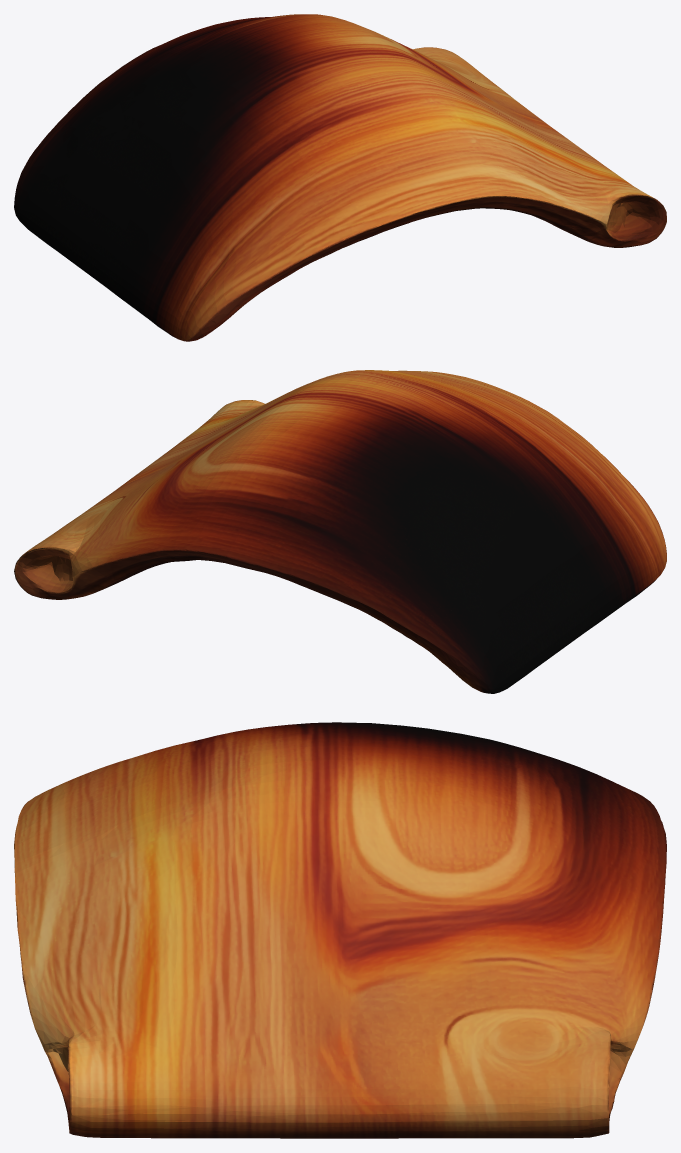
Rendered from wooden-laptop-stand-3d.jpeg.glb.
The picture shows the model from 3 angles, top to bottom: view 1: azimuth 30°, elevation 25°; view 2: azimuth 150°, elevation 25°; view 3: azimuth 270°, elevation 25°; orthographic projection. The views are drawn at different scales.
Visible parts, largest first — view 1: world; view 2: world; view 3: world.
Boxes of the visible parts, box(x1,y1,x2,y2) form: world: box(14, 14, 666, 341); world: box(14, 370, 666, 693); world: box(14, 722, 666, 1138).
Size of the model in its own units: 1 by 0.3666 by 0.9013.
1 material, 1 textured.
